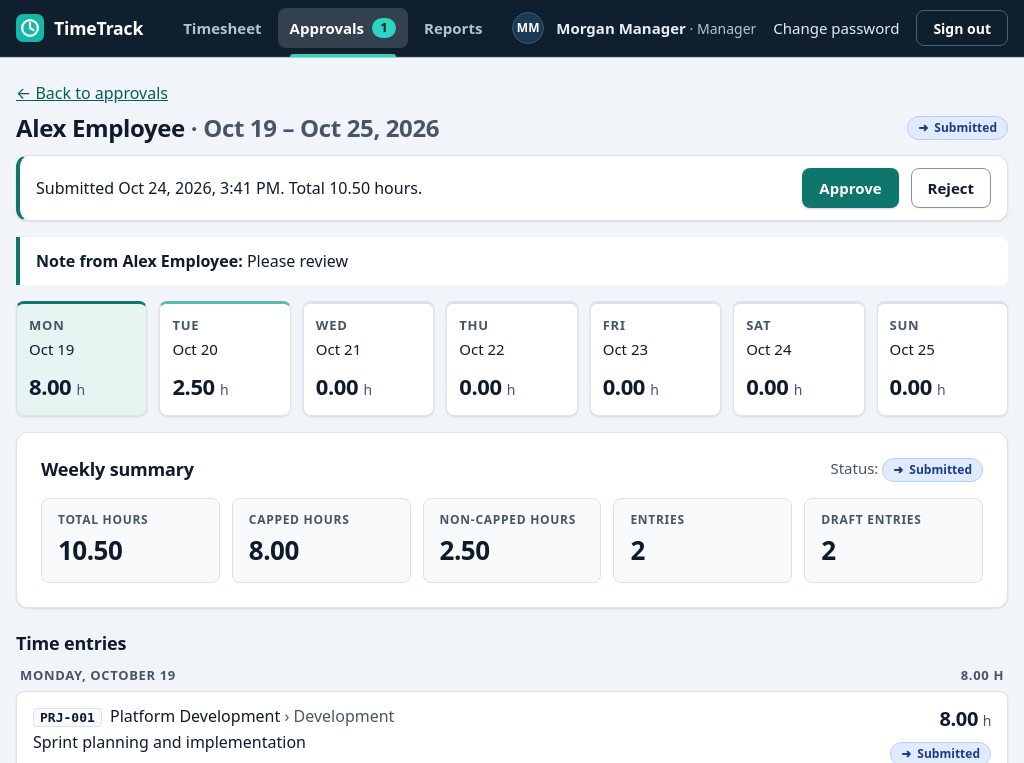
Test: approving › confirms, sends one request with a key, and shows the week as approved
Click the button "Approve" at (850, 188), box x1=802 y1=168 x2=899 y2=208
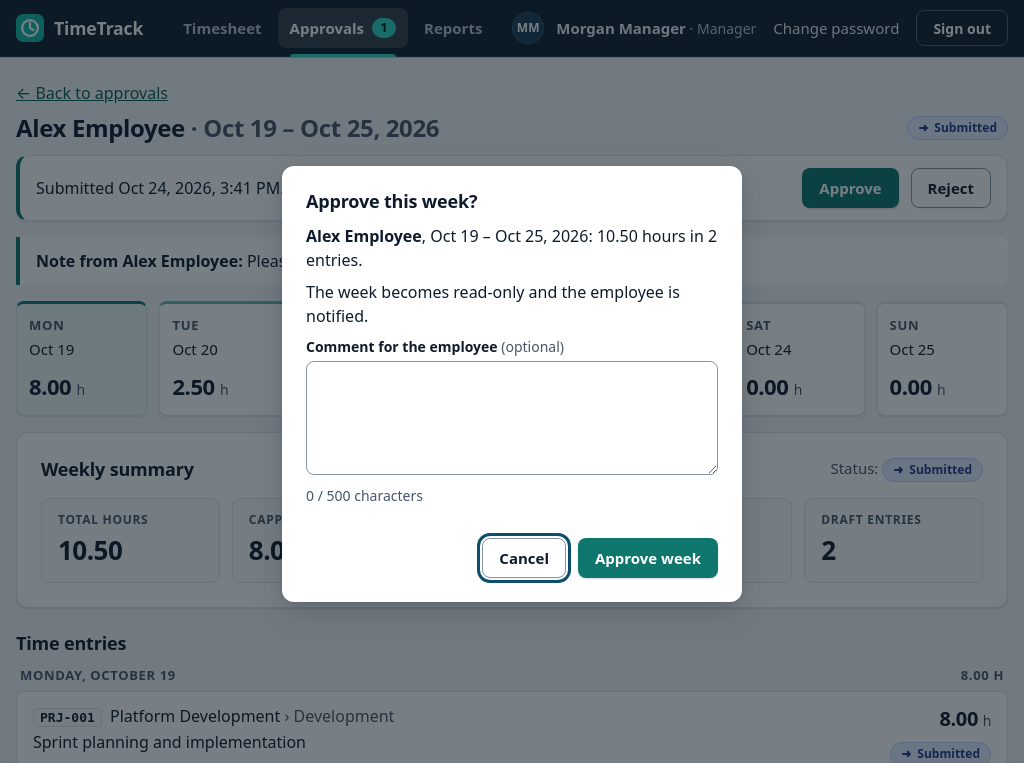
Now the dialog shows "Alex Employee", box x1=306 y1=225 x2=422 y2=247
Now the dialog shows "10.50 hours in 2 entries", box x1=282 y1=166 x2=742 y2=602
Type "  Thanks  " into the text box labelled "Comment for the employee (optional)" at (512, 418), box x1=306 y1=361 x2=718 y2=475
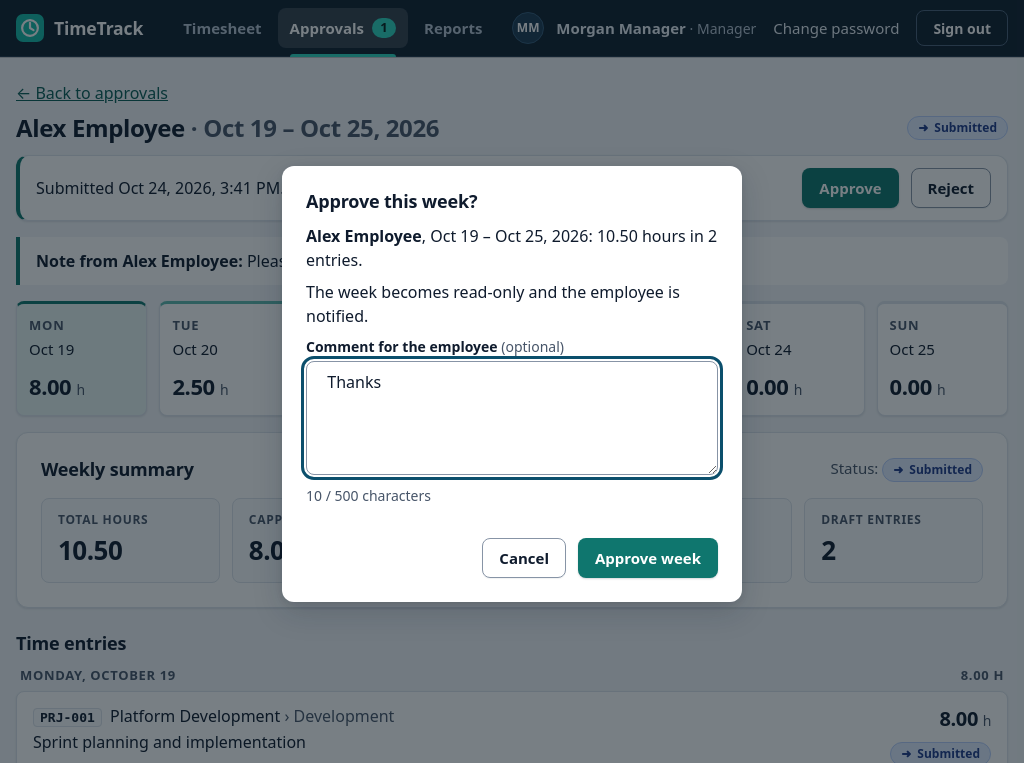
Click the button "Approve week" at (648, 558), box x1=578 y1=538 x2=718 y2=578
(page scrolled)
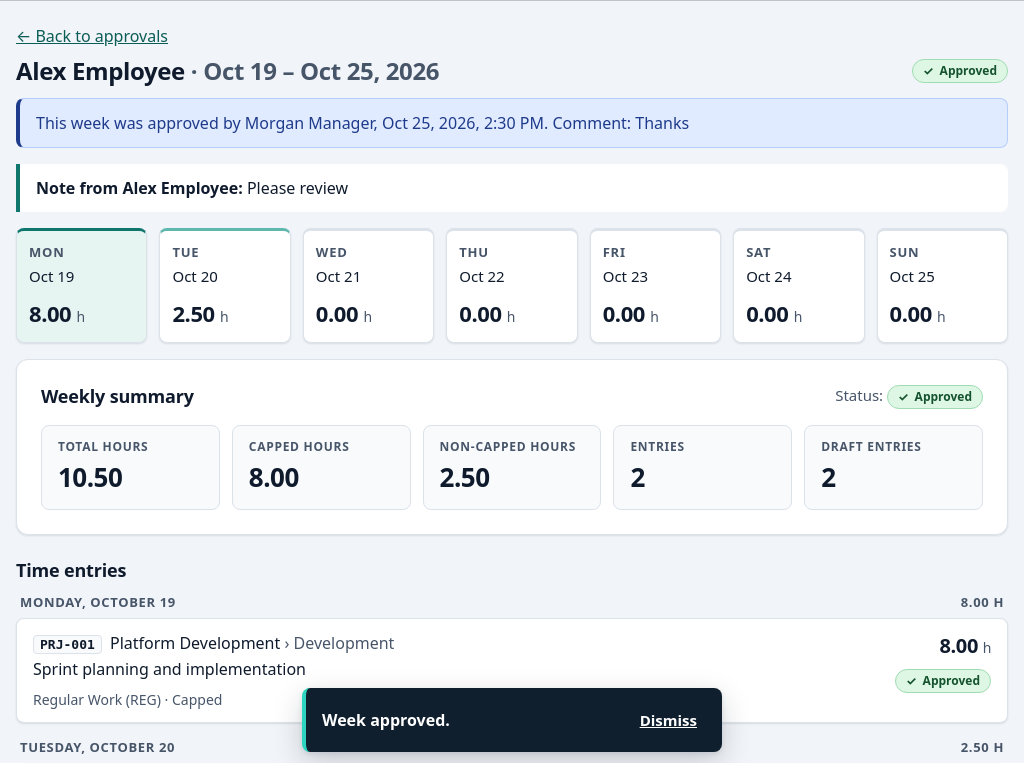
Now the dialog is gone
Now the text "Week approved." is shown, box x1=322 y1=708 x2=450 y2=732
Now the text "This week was approved by Morgan Manager" is shown, box x1=16 y1=98 x2=1008 y2=148
